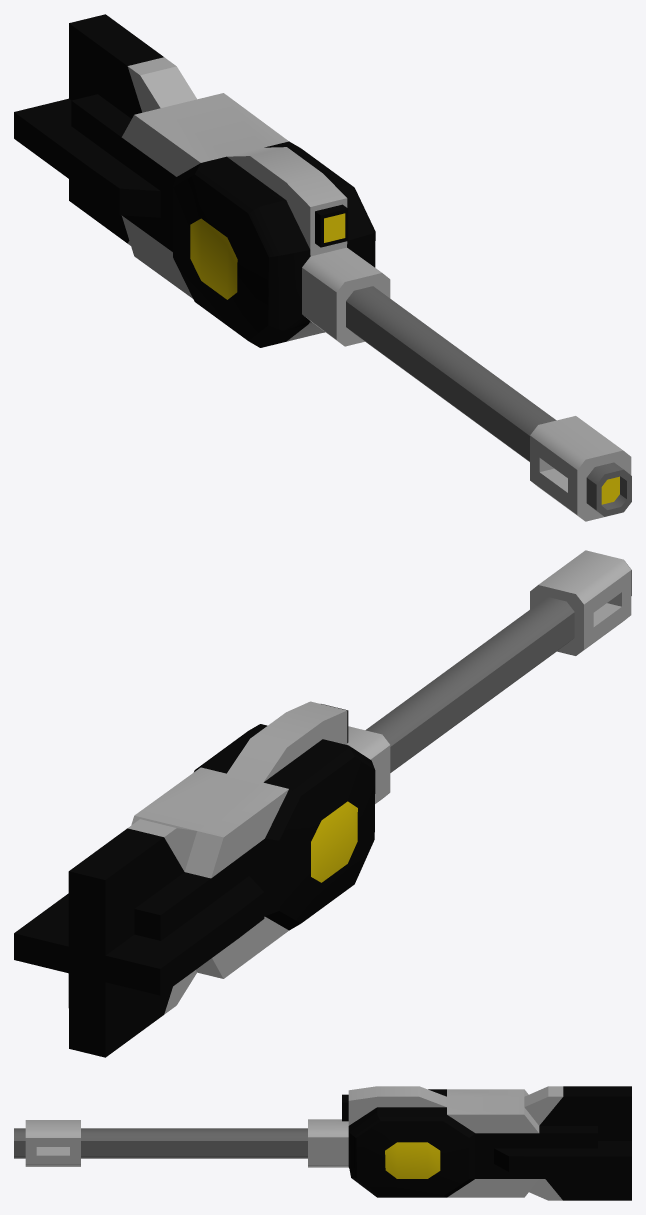
Rendered from sentouki_iteam_gun.fbx.
The picture shows the model from 3 angles, top to bottom: view 1: azimuth 30°, elevation 25°; view 2: azimuth 150°, elevation 25°; view 3: azimuth 270°, elevation 25°; orthographic projection. The views are drawn at different scales.
Parts seen in each view (by area): view 1: pCube52; view 2: pCube52; view 3: pCube52.
Boxes of the visible parts, box(x1,y1,x2,y2) form: pCube52: box(14, 14, 631, 521); pCube52: box(14, 550, 631, 1057); pCube52: box(14, 1086, 631, 1200).
Bounding box in the file's own units: 41.54 × 48.11 × 259.
